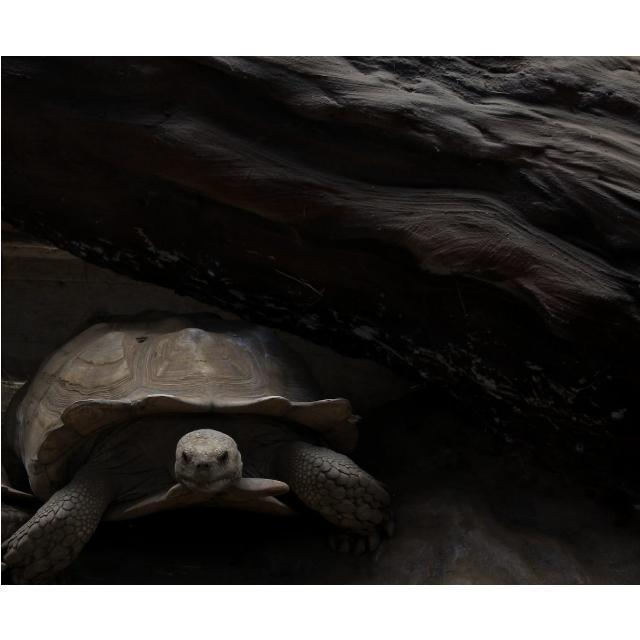turtle: (3, 309, 391, 582)
